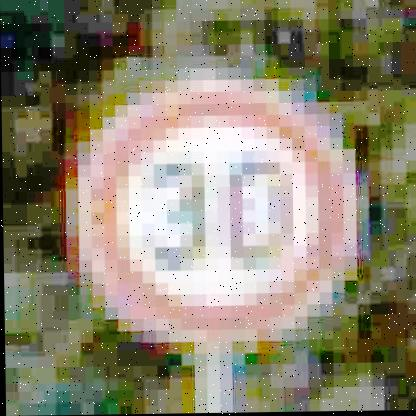Speed Limit -30-: (68, 71, 360, 344)
